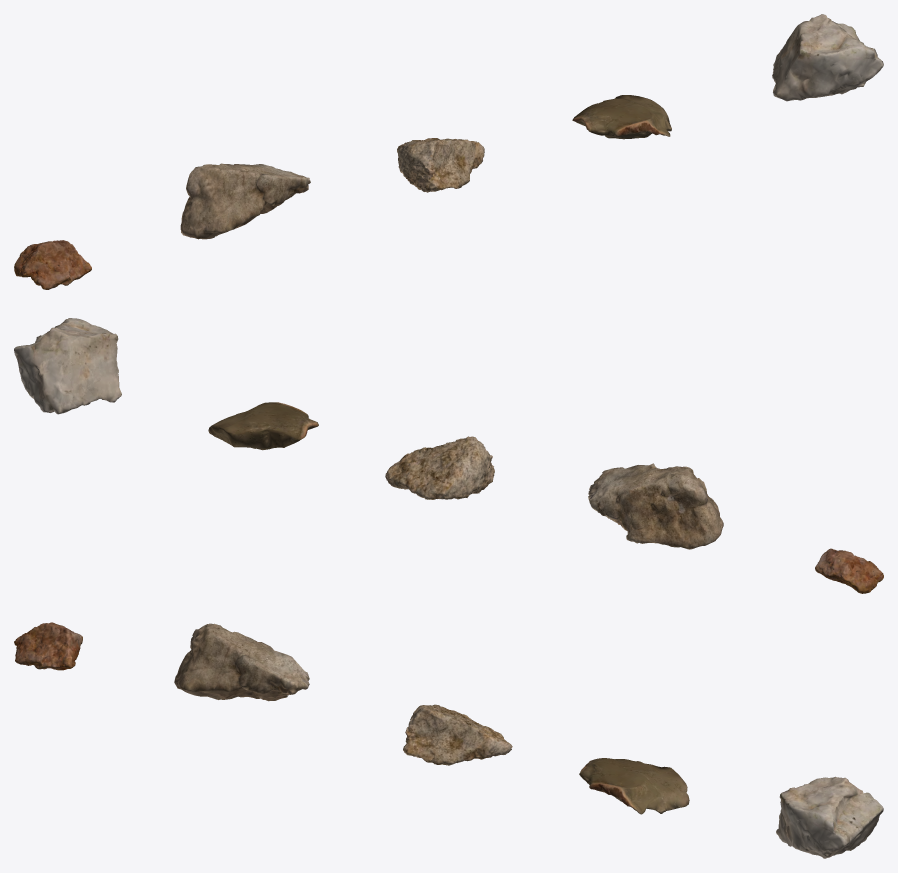
File: namaqualand_stones_01.glb
The picture shows the model from 3 angles, top to bottom: view 1: azimuth 30°, elevation 25°; view 2: azimuth 150°, elevation 25°; view 3: azimuth 330°, elevation 25°; orthographic projection.
Visible parts, largest first — view 1: namaqualand_stones_01_e, namaqualand_stones_01_b, namaqualand_stones_01_c, namaqualand_stones_01_d, namaqualand_stones_01_a; view 2: namaqualand_stones_01_b, namaqualand_stones_01_e, namaqualand_stones_01_c, namaqualand_stones_01_d, namaqualand_stones_01_a; view 3: namaqualand_stones_01_b, namaqualand_stones_01_e, namaqualand_stones_01_c, namaqualand_stones_01_d, namaqualand_stones_01_a.
Part boxes in pixels (x1,y1,x2,y2): namaqualand_stones_01_e: (772,14,883,101); namaqualand_stones_01_b: (180,163,310,239); namaqualand_stones_01_c: (397,138,484,192); namaqualand_stones_01_d: (572,95,671,139); namaqualand_stones_01_a: (14,240,91,289); namaqualand_stones_01_b: (588,463,723,549); namaqualand_stones_01_e: (14,318,121,414); namaqualand_stones_01_c: (385,436,494,499); namaqualand_stones_01_d: (208,402,318,450); namaqualand_stones_01_a: (815,548,883,593); namaqualand_stones_01_b: (174,623,309,701); namaqualand_stones_01_e: (776,776,883,858); namaqualand_stones_01_c: (403,704,512,765); namaqualand_stones_01_d: (579,758,689,814); namaqualand_stones_01_a: (14,622,82,670).
Bounding box in the file's own units: 1.02 × 0.084 × 0.112.
Materials: 1 (1 with a texture image).
